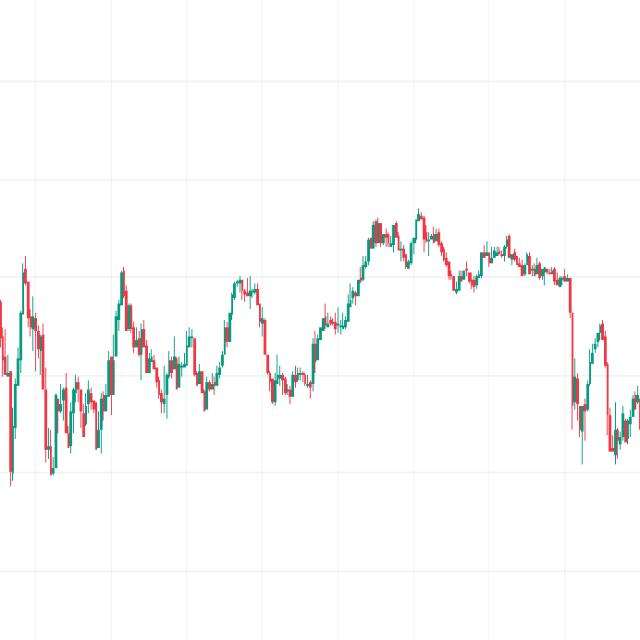Triple-Bottom: (258, 355, 328, 411)
Triple-Top: (52, 373, 100, 454)
